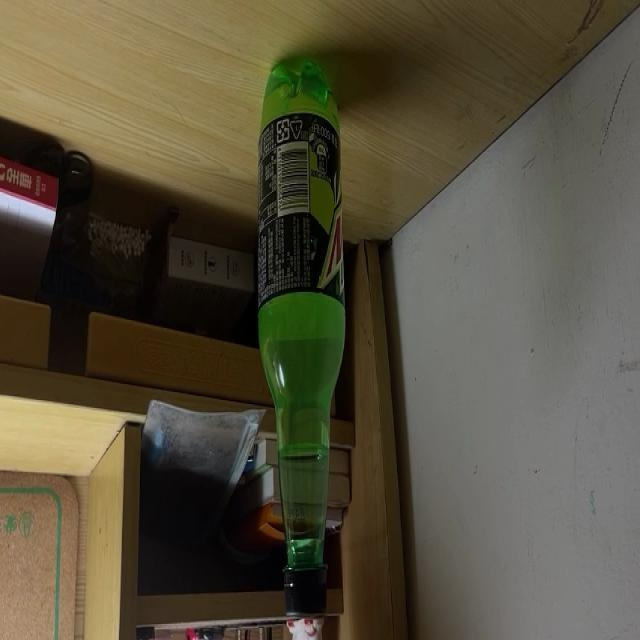Mountain-Dew: (256, 59, 346, 613)
